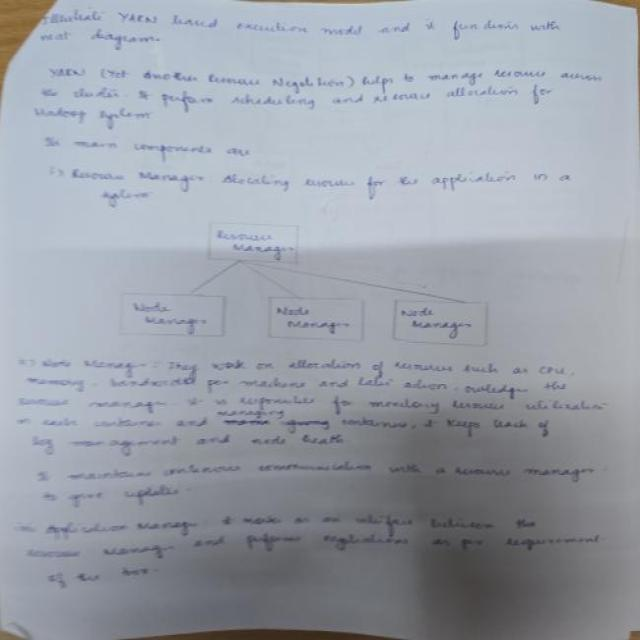Figure Detection - v3 Dataset Version2: (121, 209, 494, 353)
